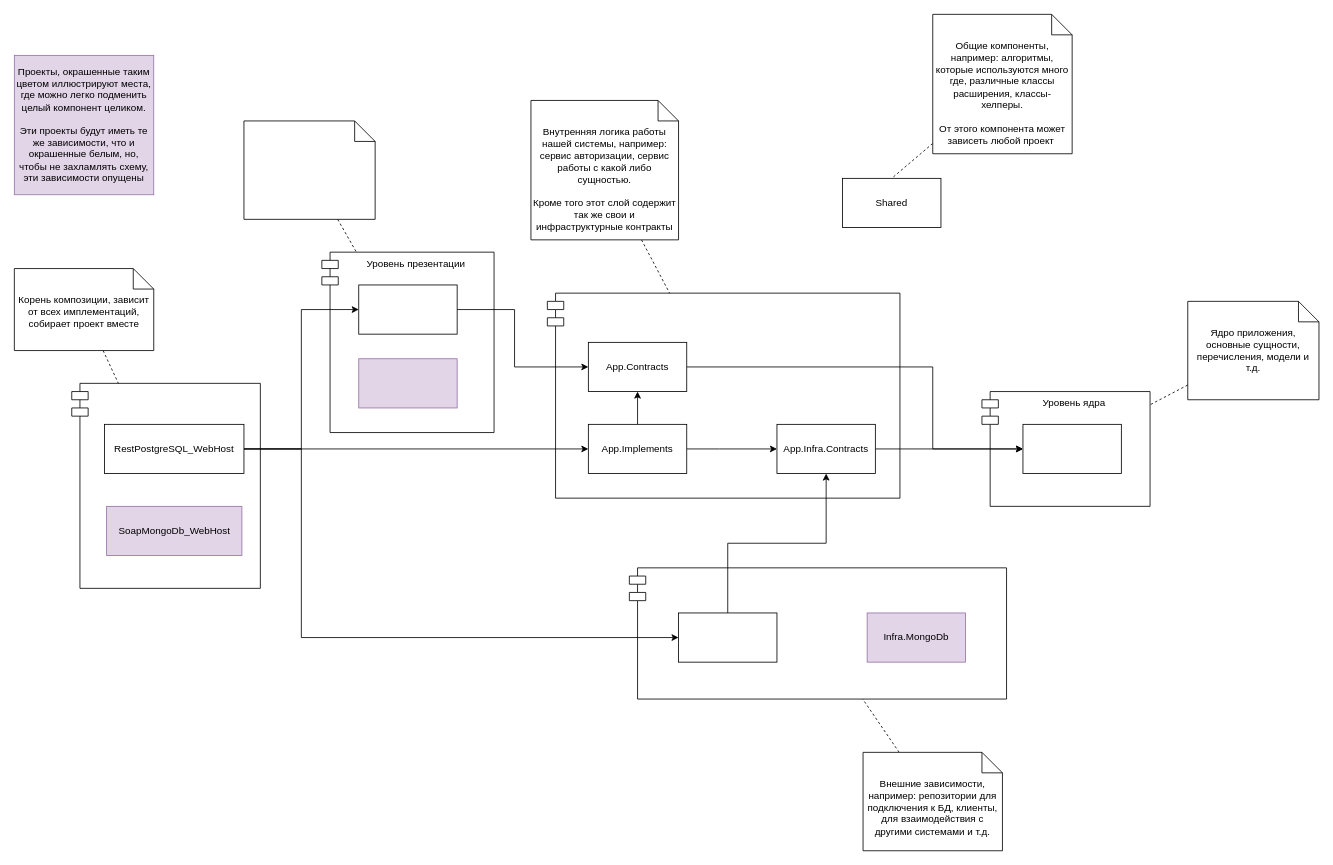
The diagram is 1333 pixels wide and 865 high, and some of its shapes have lost their labels. The shapes that lost their labels are listed below. From the top down, each one's box as (x1, y1, x2, y2) in pixels, then its label:
(243, 120, 375, 219): Внешний интерфейс системы, которые обращается к внутренним компонентам
(358, 284, 457, 334): RestControllers
(358, 358, 457, 408): SoapControllers
(547, 292, 900, 498): Уровень приложения
(1022, 424, 1121, 474): Core
(71, 383, 260, 588): Уровень композиции
(678, 612, 777, 662): Infra.PostgreSql
(629, 567, 1007, 699): Инфраструктурный уровень
